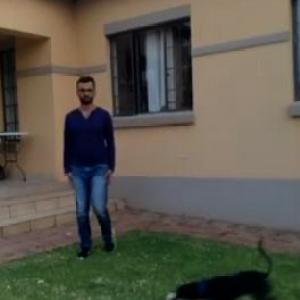follow: (62, 75, 120, 259)
